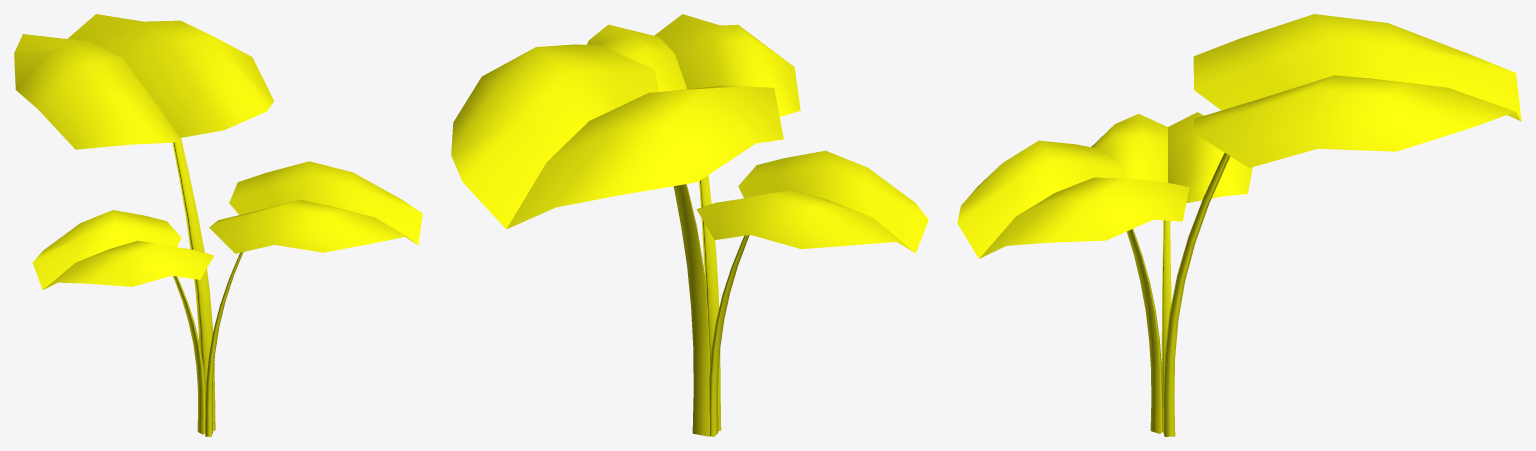
Rendered from Leaf_3.fbx.
3 views of the same model, side by side, from view 1: azimuth 30°, elevation 25°; view 2: azimuth 150°, elevation 25°; view 3: azimuth 270°, elevation 25° (orthographic). The views are drawn at different scales.
Parts seen in each view (by area): view 1: Leaf_3; view 2: Leaf_3; view 3: Leaf_3.
Boxes of the visible parts, <box> form: Leaf_3: <box>14,14,422,436</box>; Leaf_3: <box>451,14,928,436</box>; Leaf_3: <box>957,14,1521,436</box>.
Size of the model in its own units: 320 by 327 by 437.
